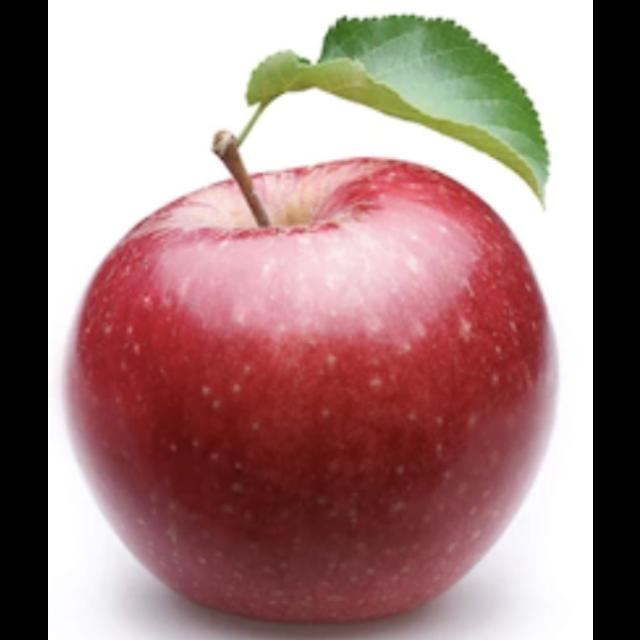Apel Segar: (63, 131, 561, 627)
